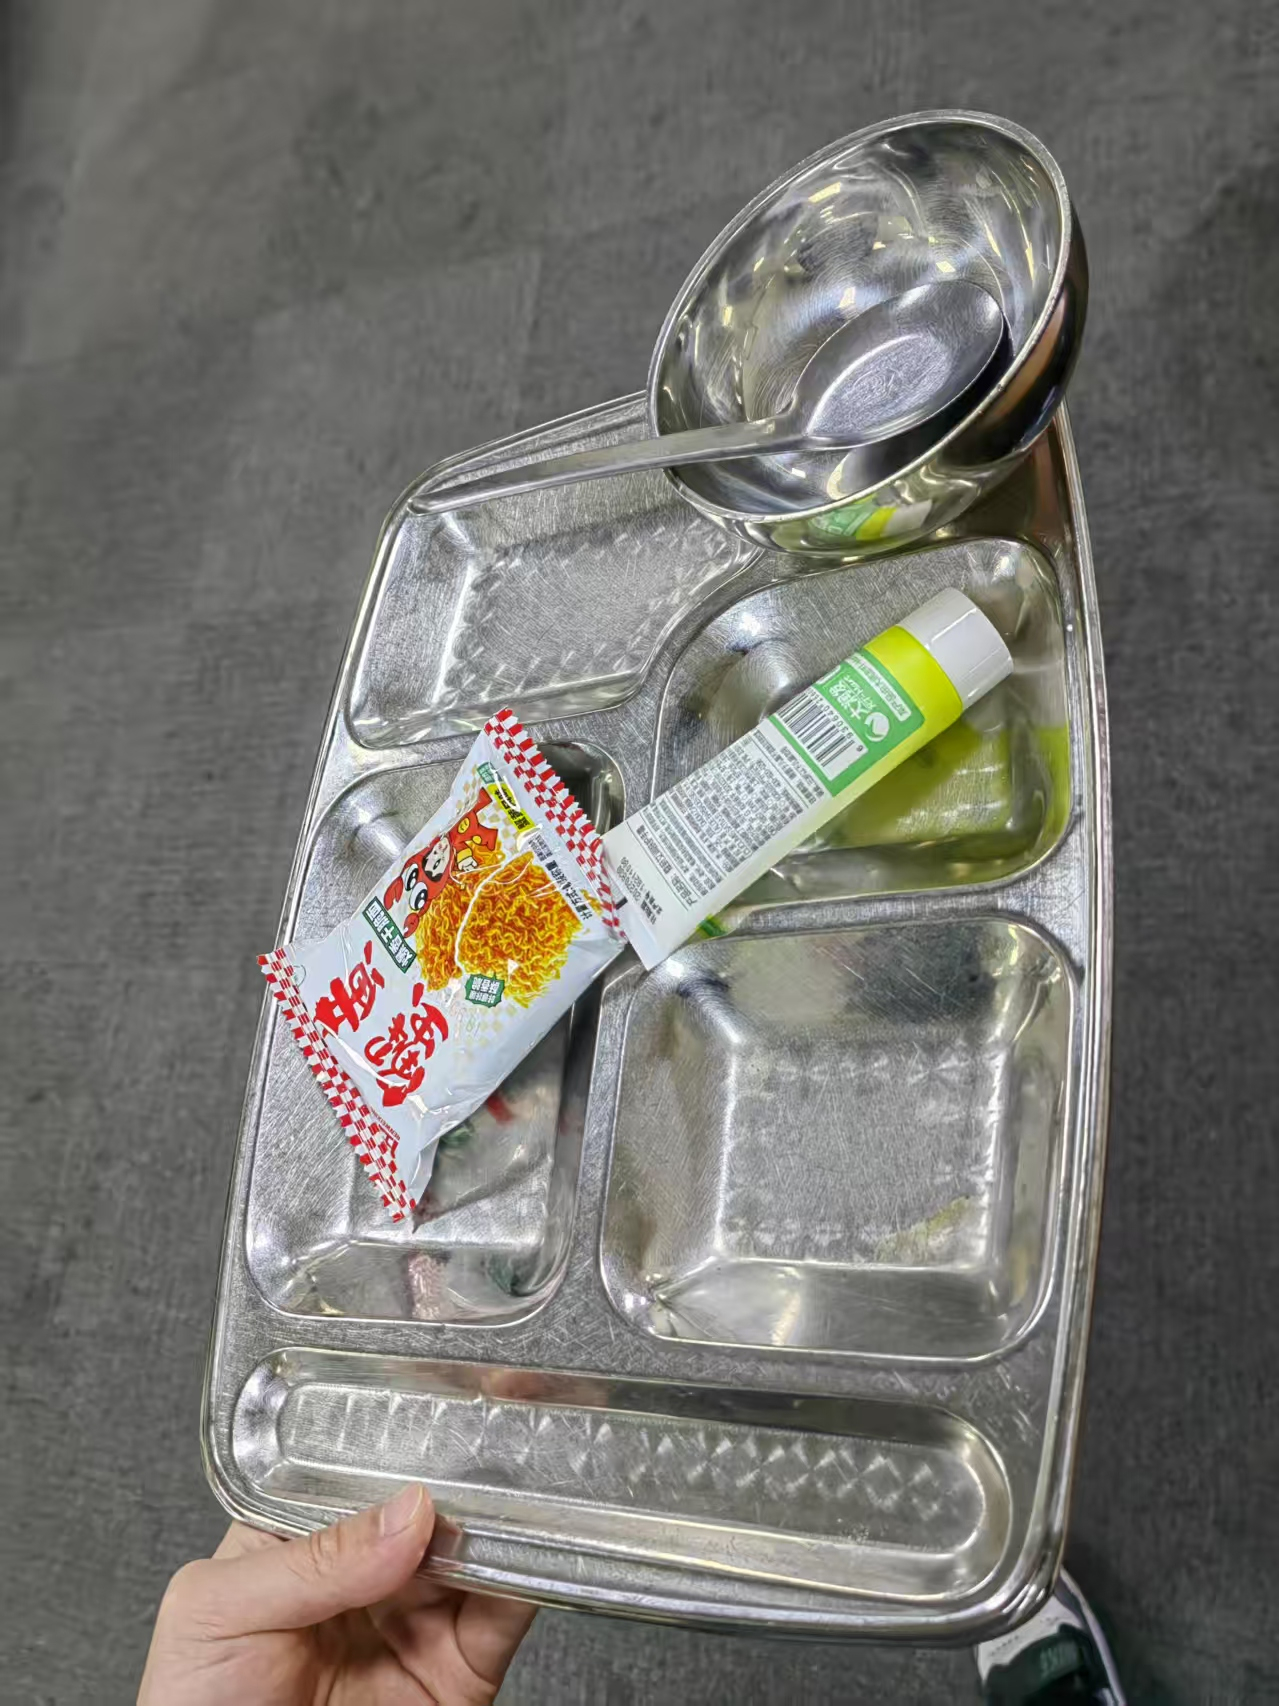moderate: (259, 590, 1016, 1218)
plate: (203, 306, 1116, 1649)
